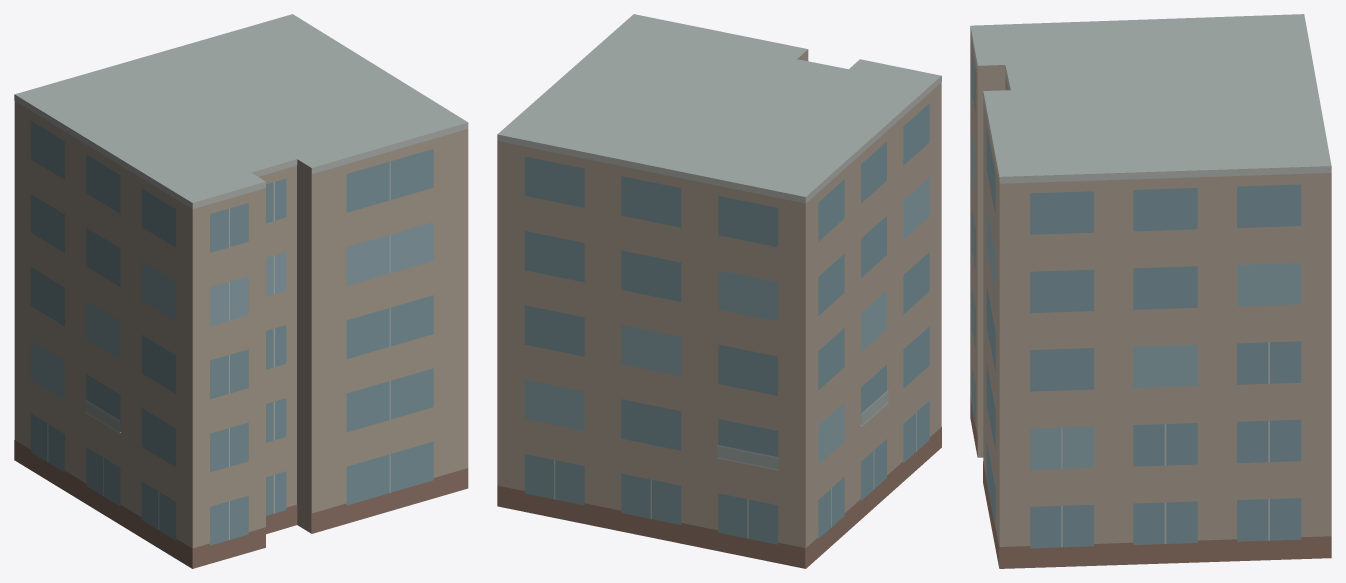
Rendered from survey-upis-32974664.glb.
The picture shows the model from 3 angles, left to right: view 1: azimuth 30°, elevation 25°; view 2: azimuth 150°, elevation 25°; view 3: azimuth 270°, elevation 25°; orthographic projection. The views are drawn at different scales.
Parts seen in each view (by area): view 1: survey-upis-32974664.tmp; view 2: survey-upis-32974664.tmp; view 3: survey-upis-32974664.tmp.
Boxes of the visible parts, box(x1,y1,x2,y2) form: survey-upis-32974664.tmp: box(14, 14, 468, 568); survey-upis-32974664.tmp: box(497, 14, 941, 568); survey-upis-32974664.tmp: box(970, 14, 1331, 568).
Size of the model in its own units: 12.58 by 14.1 by 11.79.
